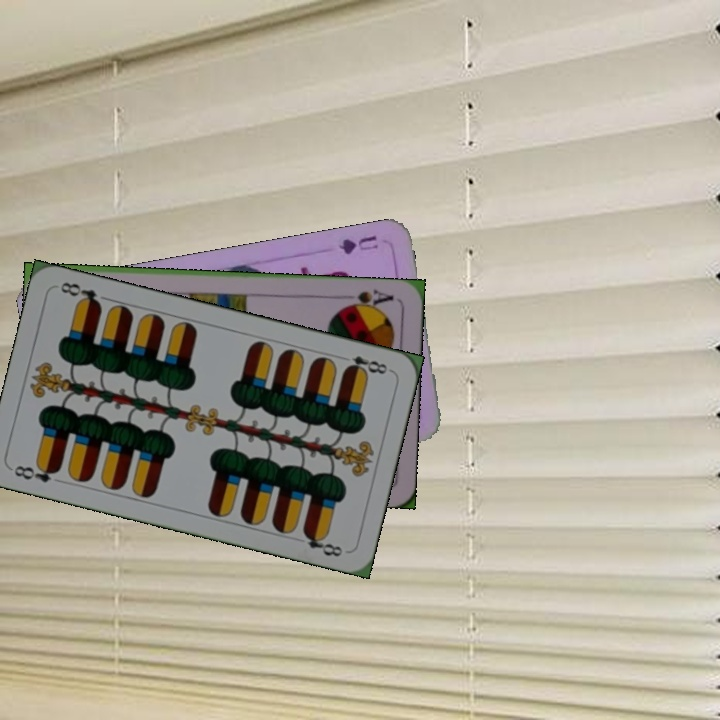E8: (336, 351, 393, 378), (10, 459, 63, 485)
GU: (334, 231, 381, 258)
SA: (338, 285, 397, 312)
